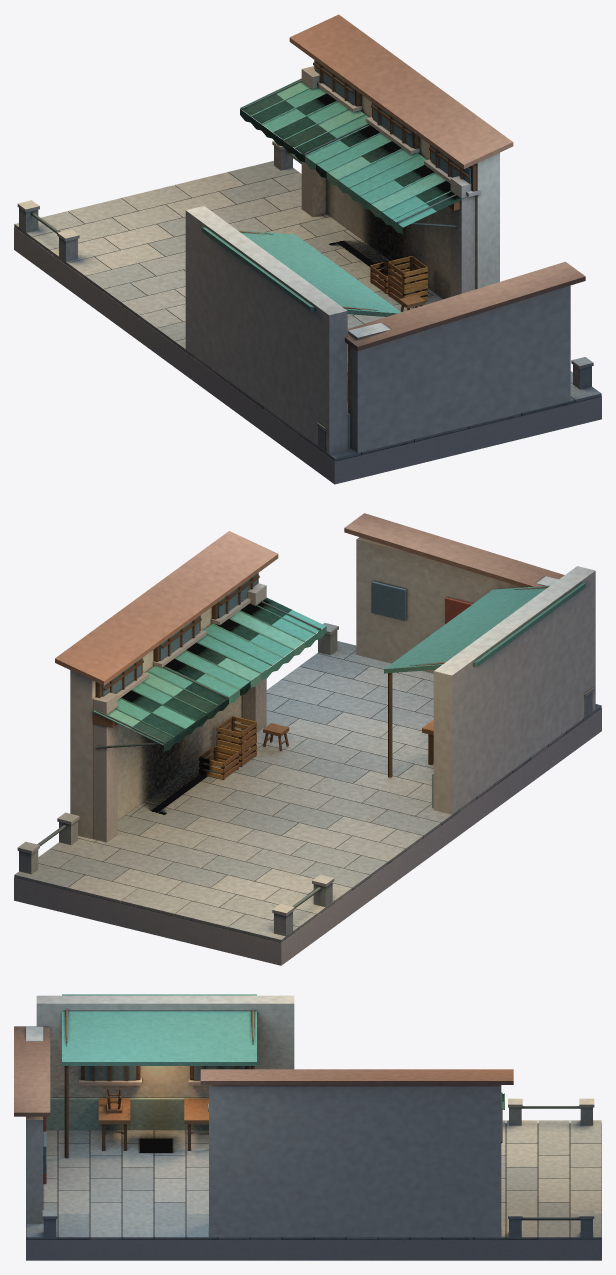
File: market-bank.glb
The picture shows the model from 3 angles, top to bottom: view 1: azimuth 30°, elevation 25°; view 2: azimuth 150°, elevation 25°; view 3: azimuth 270°, elevation 25°; orthographic projection. The views are drawn at different scales.
Visible parts, largest first — view 1: MarketMasonry; view 2: MarketMasonry; view 3: MarketMasonry.
Boxes of the visible parts, box(x1,y1,x2,y2) form: MarketMasonry: box(14, 14, 601, 484); MarketMasonry: box(14, 513, 601, 965); MarketMasonry: box(14, 994, 601, 1260).
Bounding box in the file's own units: 6.7 × 4.67 × 13.58.
1 material, 1 textured.
